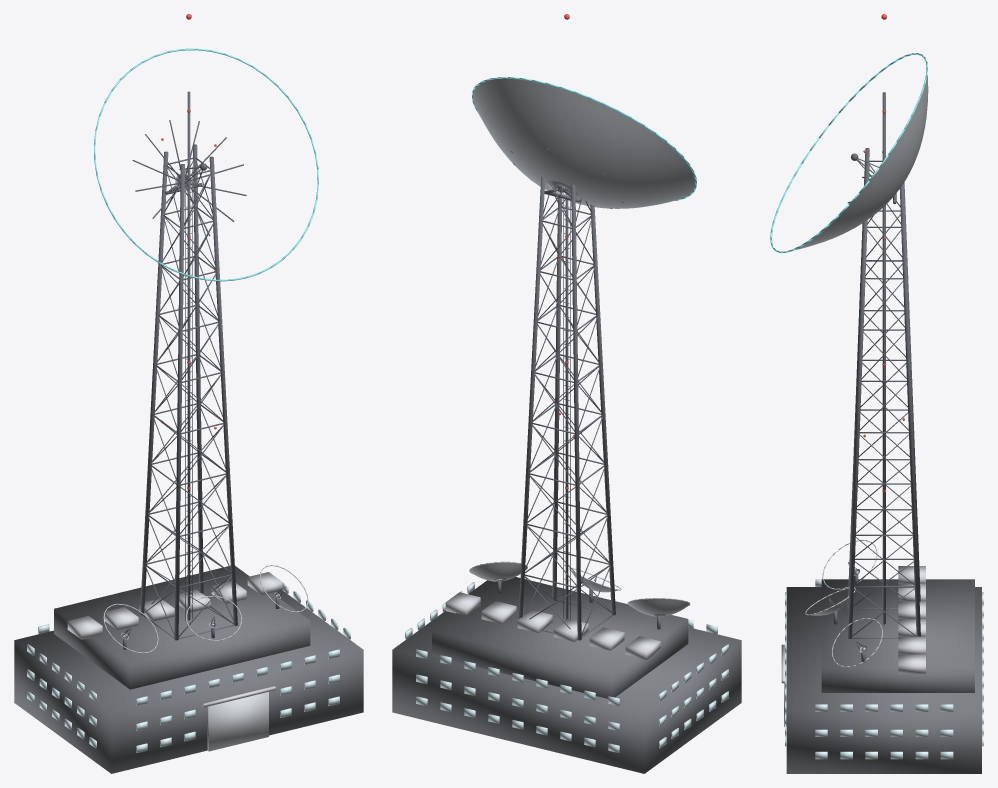
The model's file is station_antenna.gltf.
3 renders of one model, left to right at view 1: azimuth 30°, elevation 25°; view 2: azimuth 150°, elevation 25°; view 3: azimuth 270°, elevation 25°, orthographic.
Parts seen in each view (by area): view 1: Bunker, Mast, BunkerTrim, BunkerWindows, BigDishRim, BigDishSupports, SmallDishRims; view 2: Bunker, BigDish, Mast, BunkerWindows, BunkerTrim, SmallDishes, BigDishRim; view 3: Bunker, Mast, BigDish, BunkerTrim, BunkerWindows, BigDishRim, SmallDishRims.
Boxes of the visible parts, box(x1,y1,x2,y2) form: Bunker: box(14, 565, 363, 773); Mast: box(140, 91, 237, 640); BunkerTrim: box(67, 572, 282, 751); BunkerWindows: box(27, 582, 350, 752); BigDishRim: box(93, 48, 318, 281); BigDishSupports: box(132, 120, 246, 236); SmallDishRims: box(103, 565, 308, 653); Bunker: box(392, 577, 741, 773); BigDish: box(473, 78, 695, 208); Mast: box(518, 176, 615, 640); BunkerWindows: box(405, 582, 728, 752); BunkerTrim: box(445, 592, 660, 659); SmallDishes: box(470, 562, 689, 616); BigDishRim: box(471, 77, 696, 200); Bunker: box(786, 579, 981, 773); Mast: box(847, 92, 920, 638); BigDish: box(795, 76, 928, 249); BunkerTrim: box(781, 566, 925, 726); BunkerWindows: box(785, 579, 983, 759); BigDishRim: box(770, 53, 927, 253); SmallDishRims: box(805, 540, 882, 667).
Size of the model in its own units: 42.52 by 110 by 30.62.
